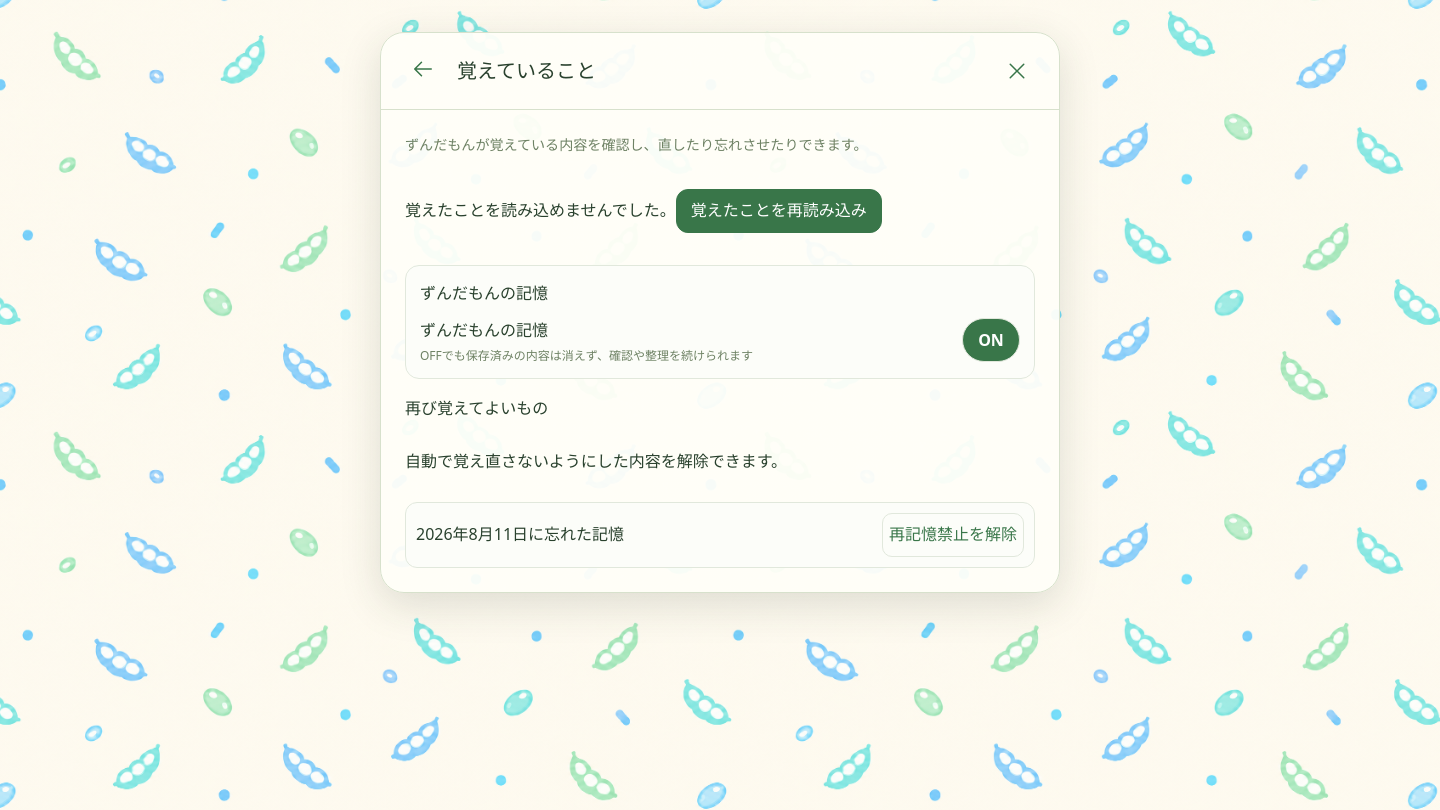
Scenario: saved memories › keeps settings and tombstones available while only memory listing retries
Check: the switch named "ずんだもんの記憶" is shown, box [962,318,1020,362]
Check: the heading "再び覚えてよいもの" is shown, box [405,397,548,419]
Click the button "覚えたことを再読み込み". click: point(779, 210)
box: [676,188,882,232]
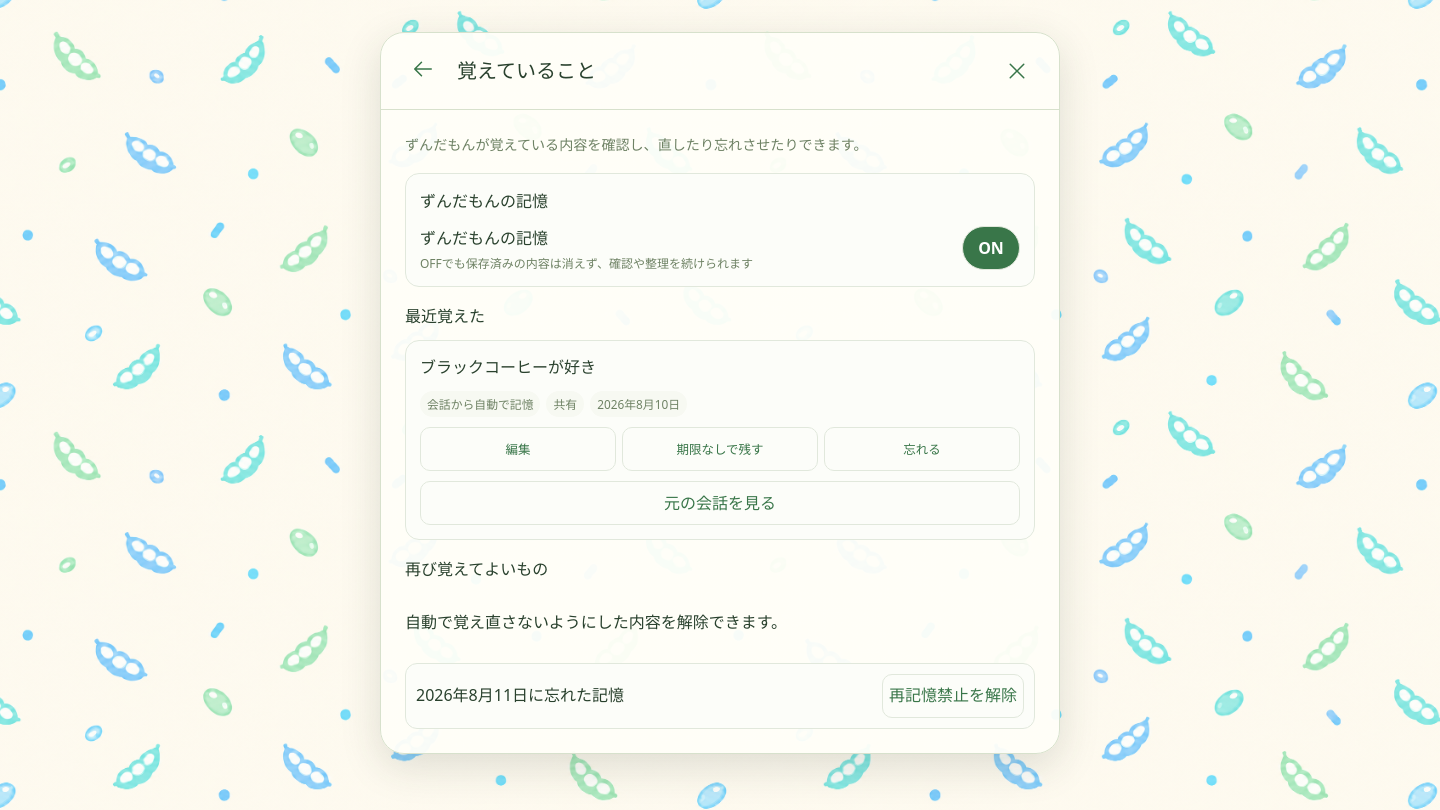
Check: the text "ブラックコーヒーが好き" is shown, box [420,356,596,378]
